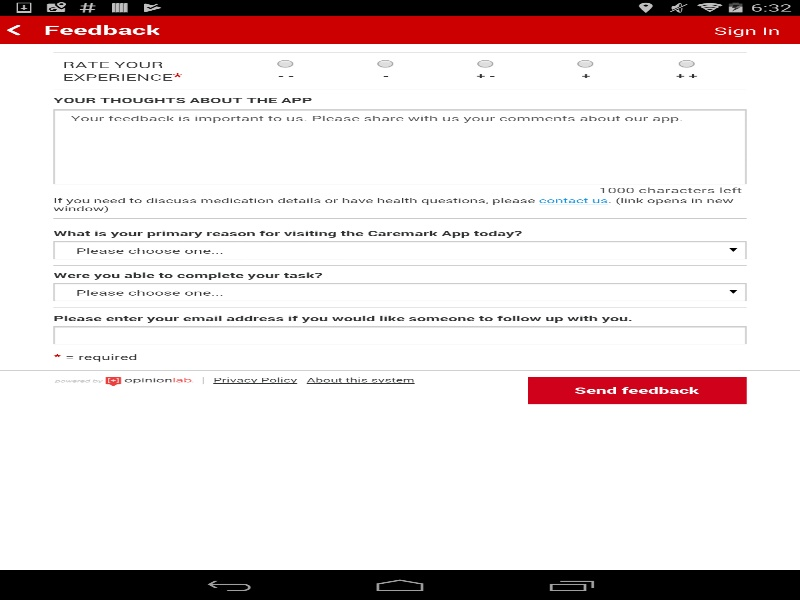Button: (53, 241, 746, 260), (53, 283, 746, 301), (528, 376, 746, 404)
Input: (53, 109, 746, 184), (53, 326, 746, 345)
